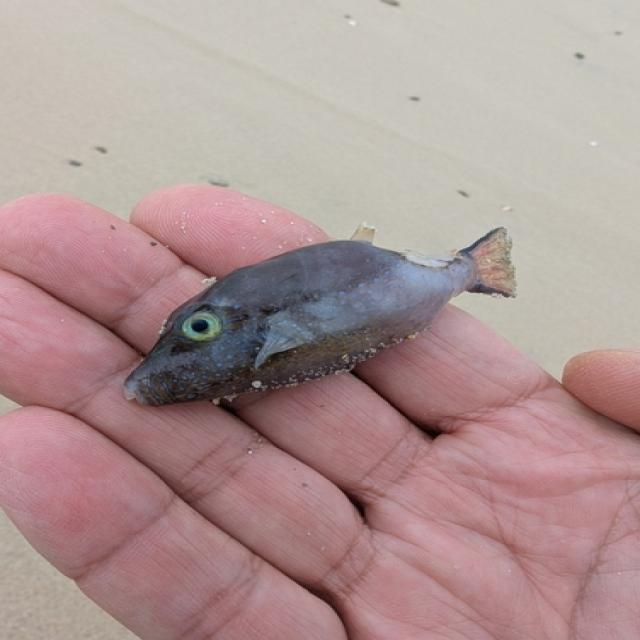Balik: (125, 224, 515, 405)
